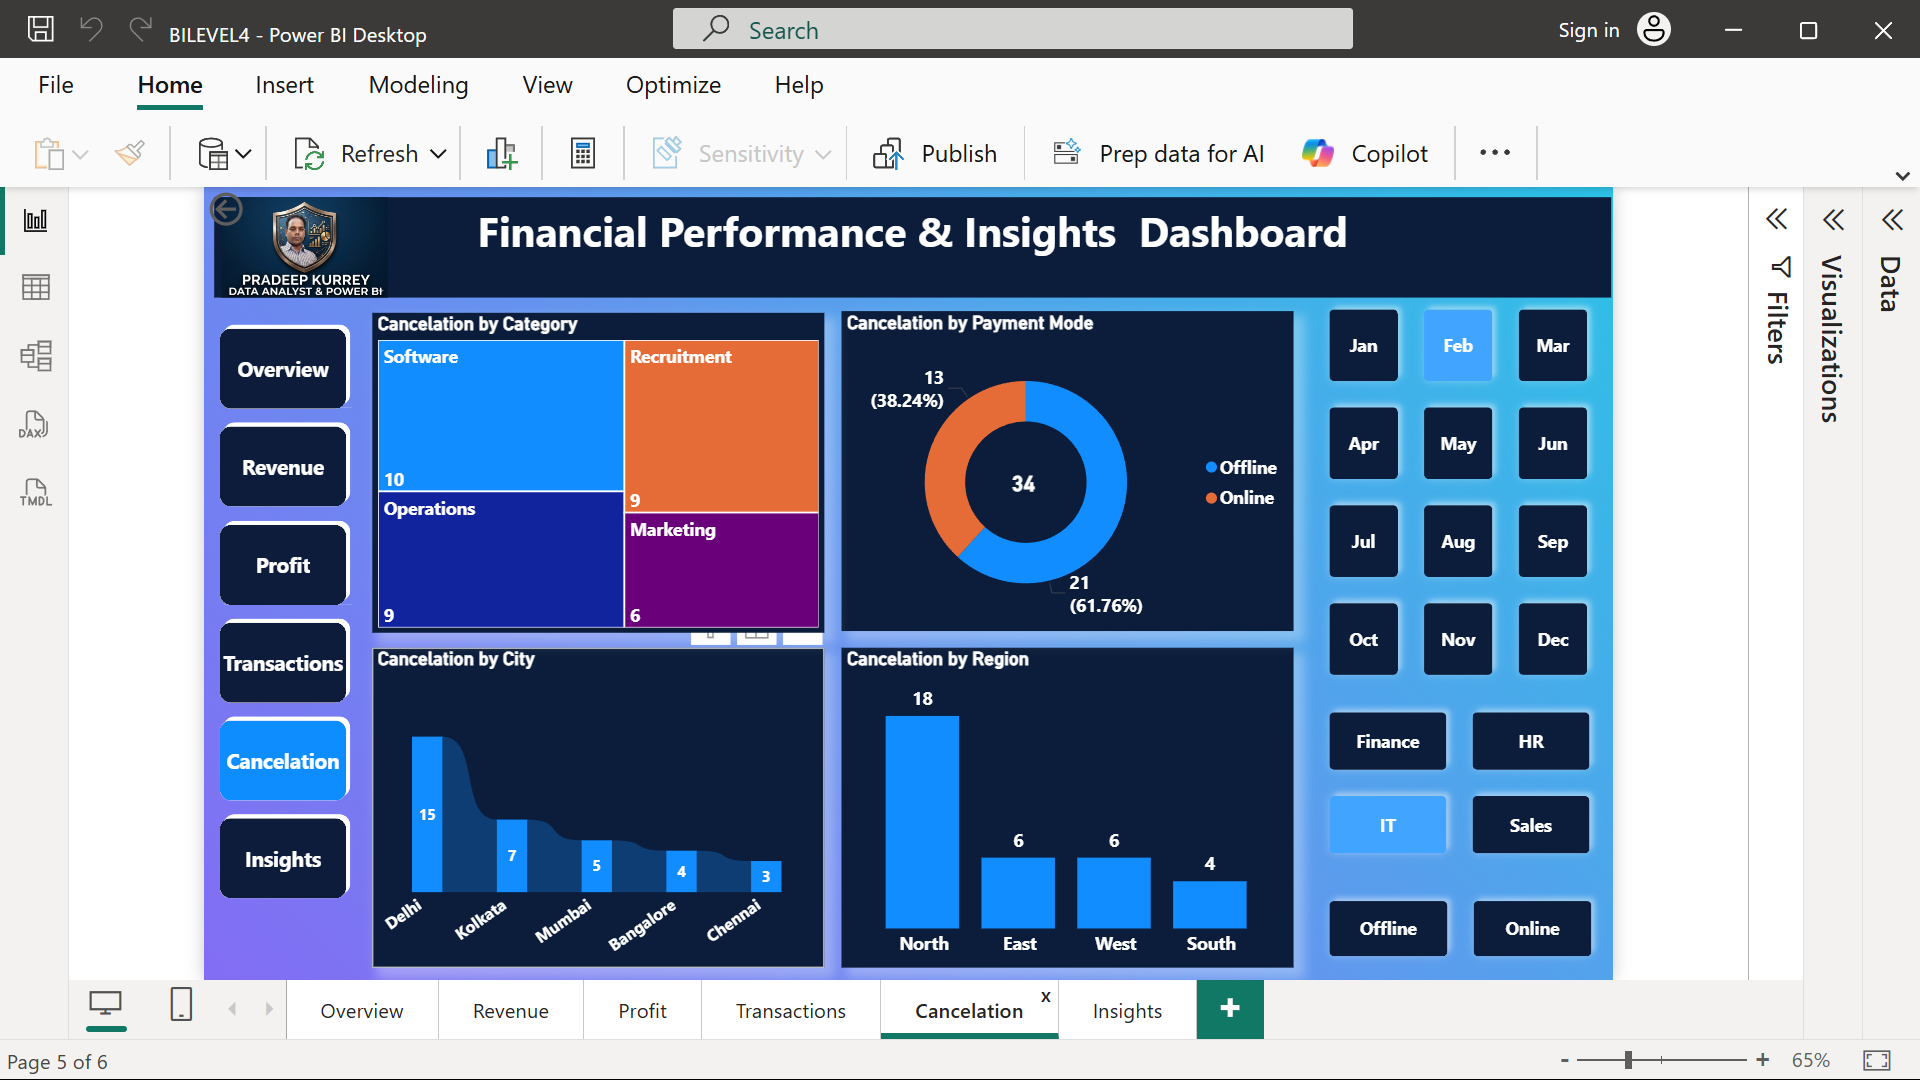

This screenshot's page, from the dashboard's own definition file:
{"tool":"powerbi","page":{"name":"Cancelation ","canvas":[1280,720],"ordinal":4},"visuals":[{"type":"group","id":"g1","title":"Group 1","box":[8.9,8.9,1268.9,91.1],"z":0},{"type":"textbox","box":[8.9,8.9,1268.9,91.1],"z":0,"group":"g1"},{"type":"image","box":[8.9,8.9,164.4,91.1],"z":1000,"group":"g1"},{"type":"advancedSlicerVisual","fields":{"Values":["Date Table.Month"]},"box":[1004.7,93.8,270.5,368],"z":1000},{"type":"ribbonChart","title":"Cancelation by City","fields":{"Category":["Sheet1.City"],"Y":["Date Table.CANCEL"]},"box":[152.7,417.7,410.3,290.7],"z":2000},{"type":"clusteredColumnChart","title":"Cancelation by Region","fields":{"Category":["Sheet1.Region"],"Y":["Date Table.CANCEL"]},"box":[579.6,417.7,410.3,290.7],"z":3000},{"type":"donutChart","title":"Cancelation by Payment Mode","fields":{"Category":["Sheet1.Payment_Mode"],"Y":["Date Table.CANCEL"]},"box":[579.6,112.2,410.3,290.7],"z":4000},{"type":"treemap","title":"Cancelation by Category","fields":{"Group":["Sheet1.Category"],"Values":["Date Table.CANCEL"]},"box":[152.7,114.1,410.3,290.7],"z":5000},{"type":"pageNavigator","box":[9.2,123.3,125.1,529.9],"z":6000},{"type":"advancedSlicerVisual","fields":{"Values":["Sheet1.Payment_Mode"]},"box":[1004.7,631.1,272.3,84.6],"z":7000},{"type":"advancedSlicerVisual","fields":{"Values":["Sheet1.Department"]},"box":[1004.7,460,270.5,163.8],"z":8000},{"type":"card","fields":{"Values":["Date Table.CANCEL"]},"box":[706.6,248.4,73.6,40.5],"z":9000},{"type":"actionButton","box":[0,0,100,40],"z":10000}]}

Visuals, with their boxes on the page's 1280x720 design canvas (x1, y1, x2, y2). These are canvas units, not pixel positions in the 1920x1080 screenshot, which may show the page scaled, cropped or inside an application window:
"Group 1" group: x1=9 y1=9 x2=1278 y2=100
textbox: x1=9 y1=9 x2=1278 y2=100
image: x1=9 y1=9 x2=173 y2=100
advancedSlicerVisual - Date Table.Month: x1=1005 y1=94 x2=1275 y2=462
"Cancelation by City" ribbonChart: x1=153 y1=418 x2=563 y2=708
"Cancelation by Region" clusteredColumnChart: x1=580 y1=418 x2=990 y2=708
"Cancelation by Payment Mode" donutChart: x1=580 y1=112 x2=990 y2=403
"Cancelation by Category" treemap: x1=153 y1=114 x2=563 y2=405
pageNavigator: x1=9 y1=123 x2=134 y2=653
advancedSlicerVisual - Sheet1.Payment_Mode: x1=1005 y1=631 x2=1277 y2=716
advancedSlicerVisual - Sheet1.Department: x1=1005 y1=460 x2=1275 y2=624
card - Date Table.CANCEL: x1=707 y1=248 x2=780 y2=289
actionButton: x1=0 y1=0 x2=100 y2=40
